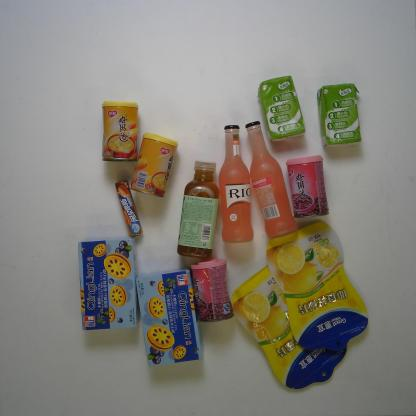Alcohol: (245, 121, 298, 240), (219, 124, 254, 244)
Candy: (115, 180, 144, 239)
Canned Food: (128, 131, 178, 198), (190, 256, 234, 323), (285, 155, 330, 219), (101, 100, 139, 162)
Dessert: (135, 266, 203, 368), (78, 235, 142, 331)
Dried Fruit: (230, 263, 348, 390), (266, 221, 369, 352)
Drink: (175, 159, 221, 259)
Milk: (257, 74, 306, 143), (317, 82, 361, 149)
